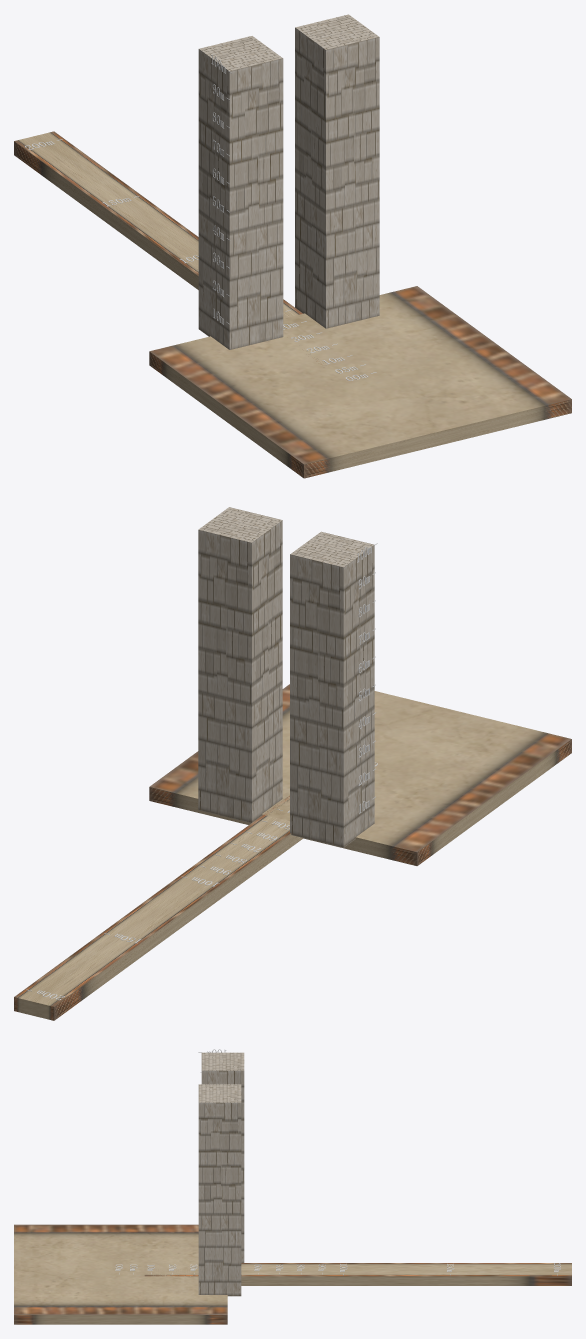
3 renders of one model, top to bottom at view 1: azimuth 30°, elevation 25°; view 2: azimuth 150°, elevation 25°; view 3: azimuth 270°, elevation 25°, orthographic. The views are drawn at different scales.
Visible parts, largest first — view 1: Box001, Box004, Box003, Box002; view 2: Box003, Box004, Box001, Box002; view 3: Box001, Box003, Box002, Box004.
Boxes of the visible parts, left/top/right/bottom form: Box001: left=149, top=286, right=571, bottom=478; Box004: left=198, top=36, right=283, bottom=349; Box003: left=295, top=14, right=379, bottom=328; Box002: left=14, top=131, right=326, bottom=365; Box003: left=198, top=507, right=282, bottom=822; Box004: left=290, top=531, right=374, bottom=847; Box001: left=149, top=684, right=571, bottom=865; Box002: left=14, top=795, right=303, bottom=1020; Box001: left=14, top=1224, right=227, bottom=1324; Box003: left=198, top=1084, right=241, bottom=1296; Box002: left=144, top=1263, right=571, bottom=1285; Box004: left=201, top=1052, right=244, bottom=1263.
Bounding box in the file's own units: 100 × 106 × 261.
Materials: 2 (2 with a texture image).
